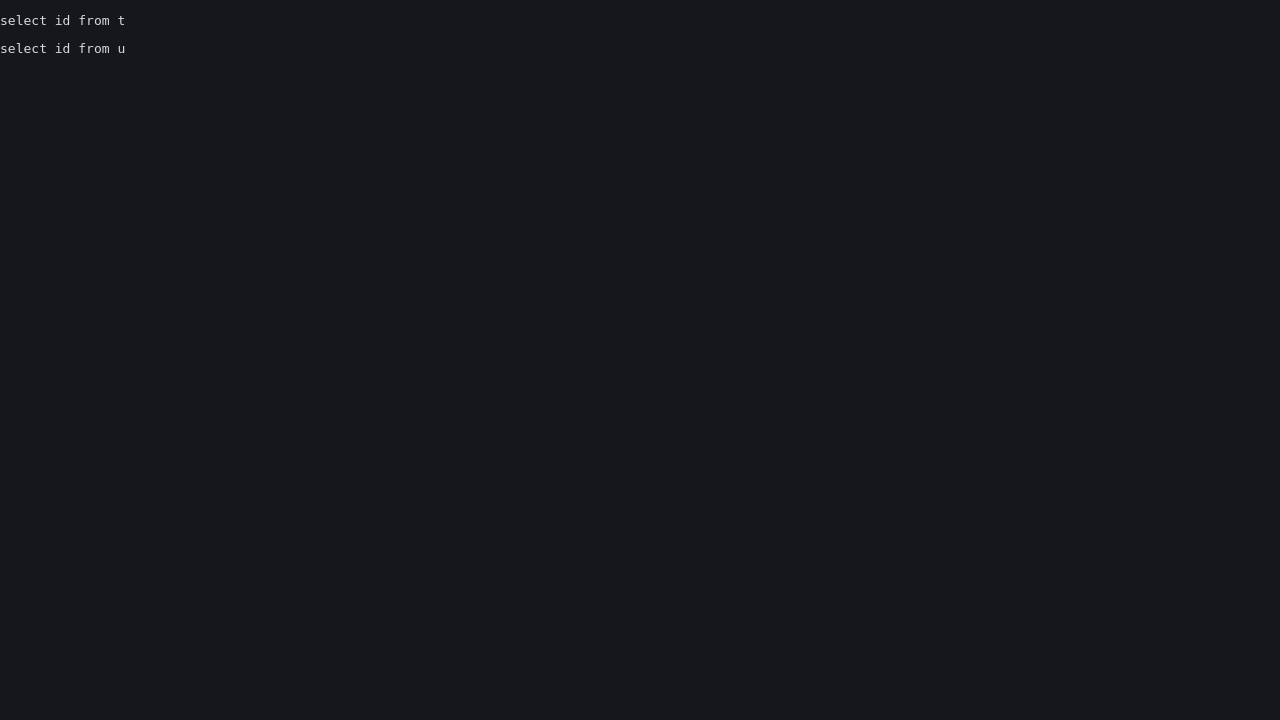
Test case: useFindReplace wired to the dialog › replaces one occurrence, leaving the rest
Step 1. Press r
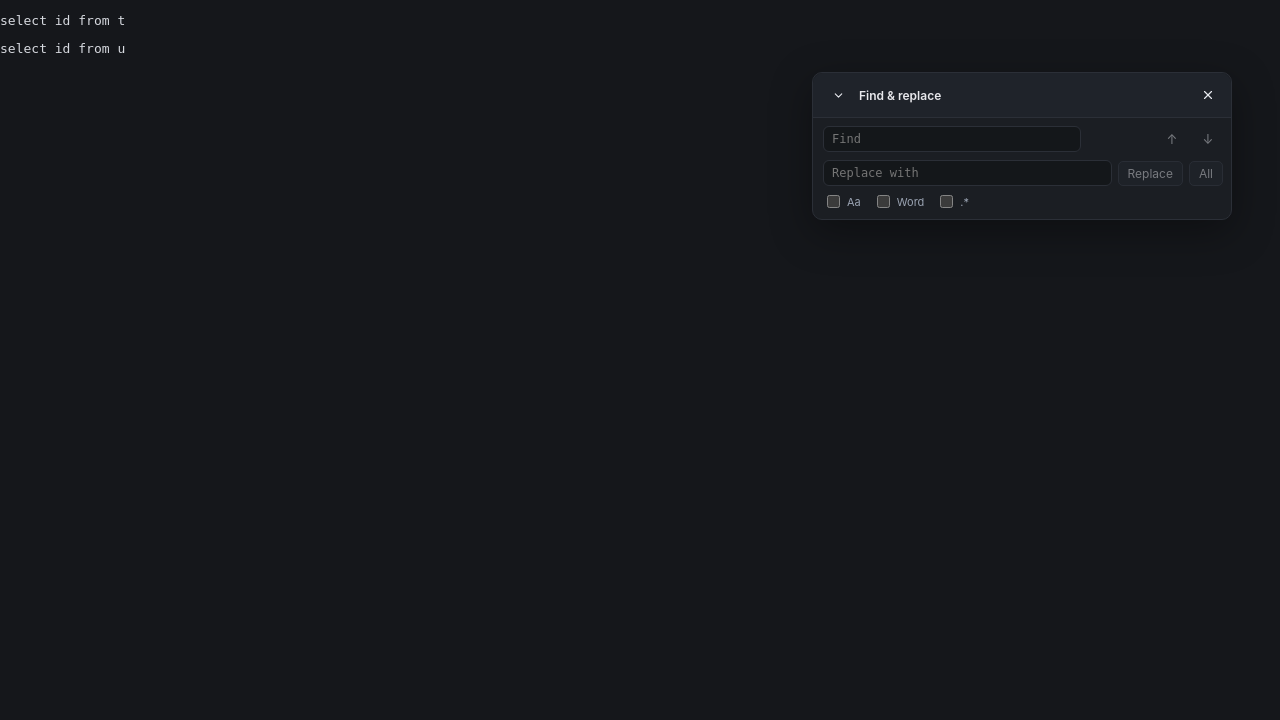
Step 2. Type "id" into the field with test id "find-replace-query" → x=952, y=139, box [823,126,1081,152]
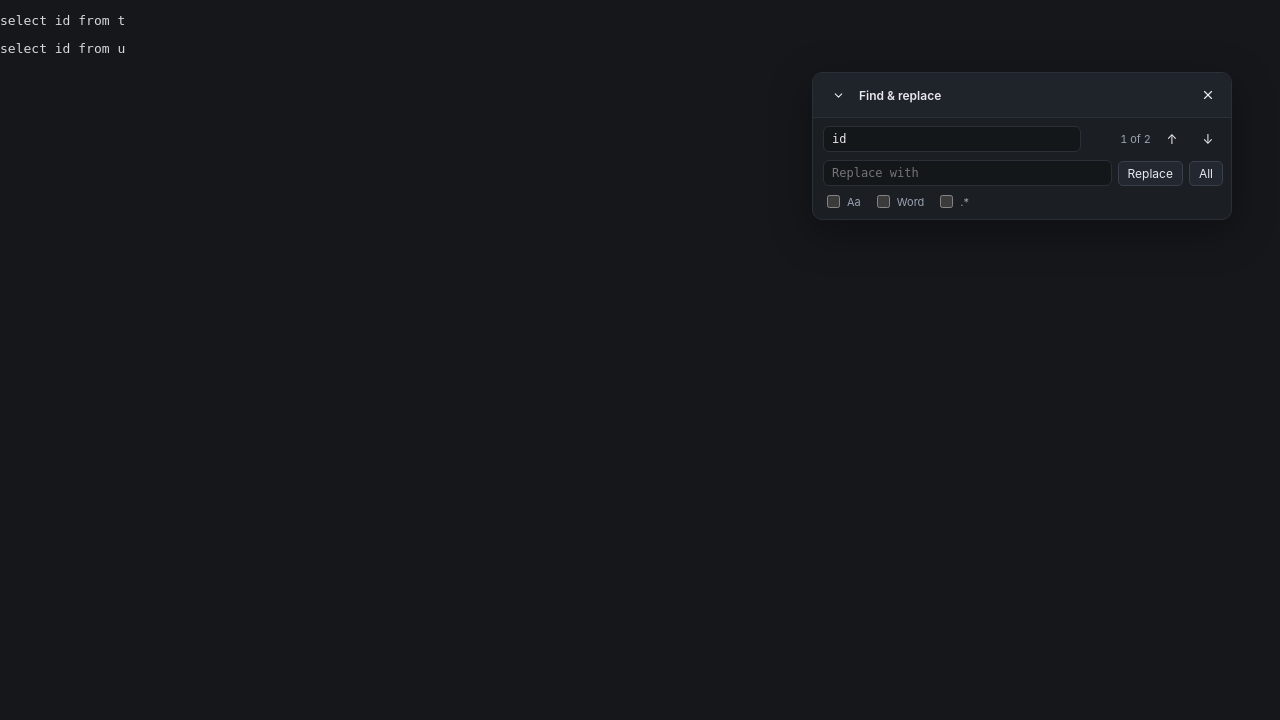
Step 3. Type "key" into the field with test id "find-replace-replacement" → x=967, y=173, box [823,160,1112,186]
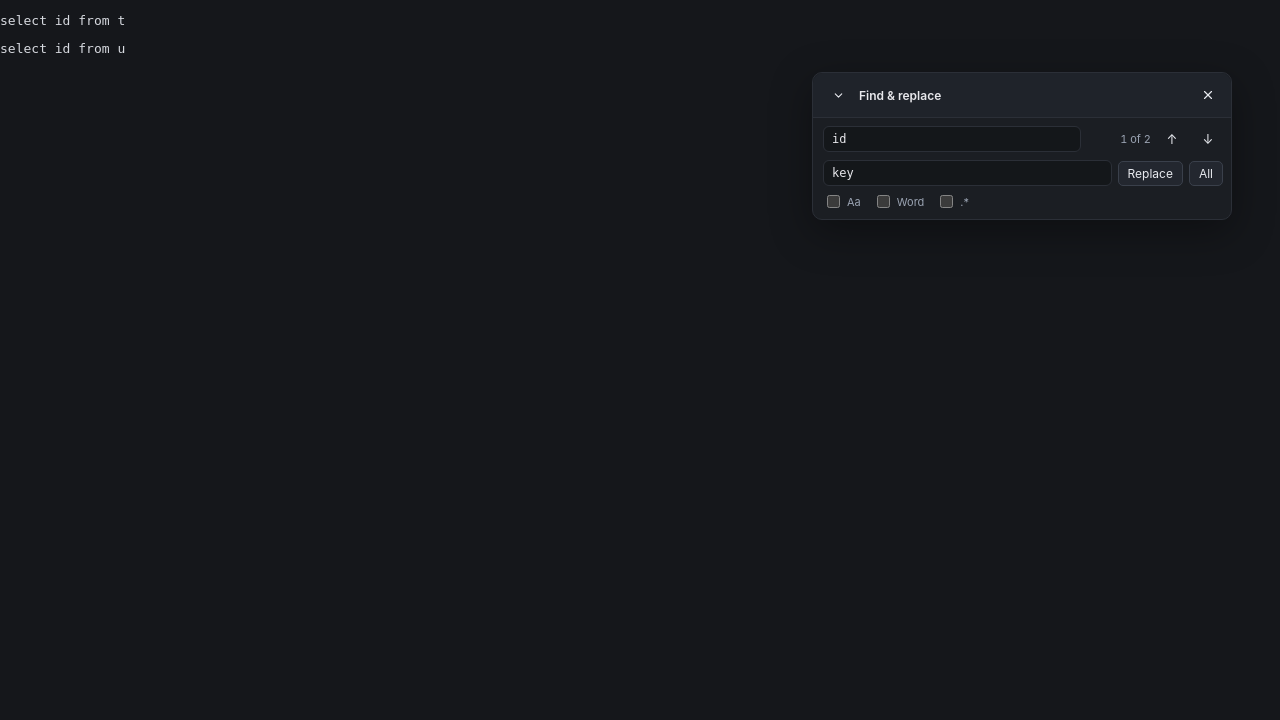
Step 4. Click the button with test id "find-replace-replace" → x=1150, y=173, box [1118,160,1183,186]
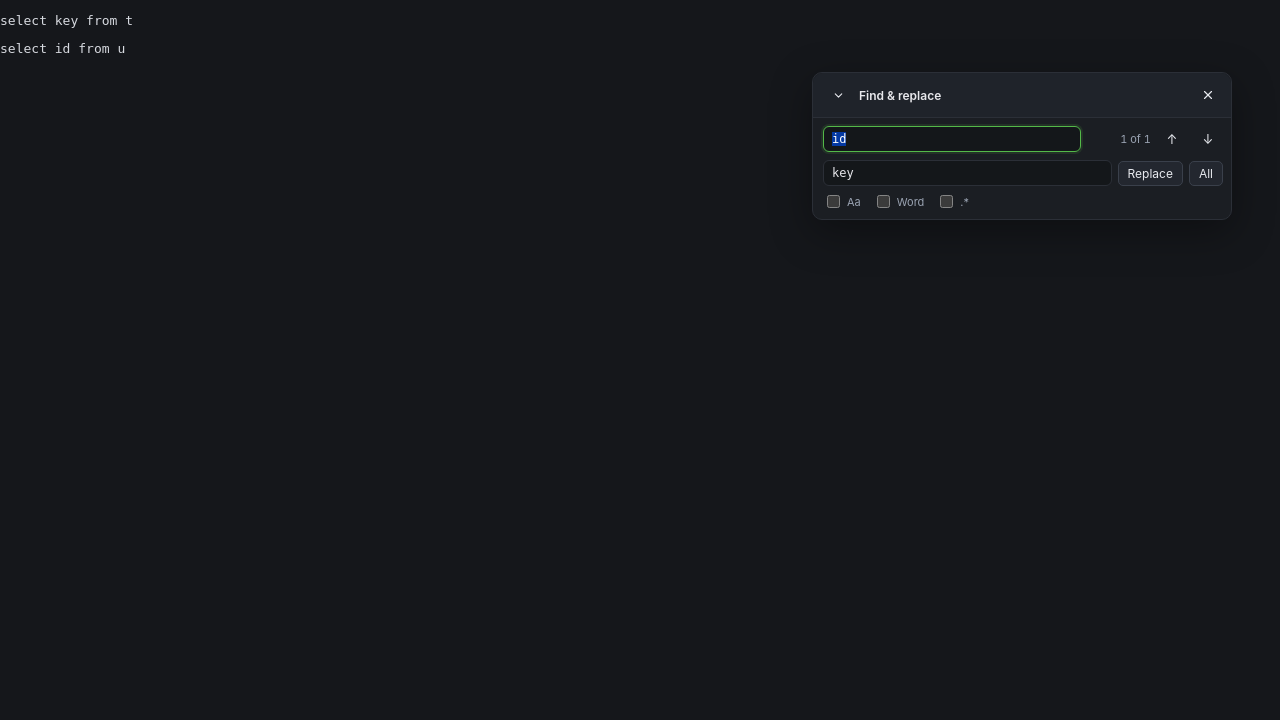
expect the text with test id "doc-b" reads "select id from u": met, box [0,41,125,56]
expect the text with test id "doc-a" reads "select key from t": met, box [0,13,133,28]
